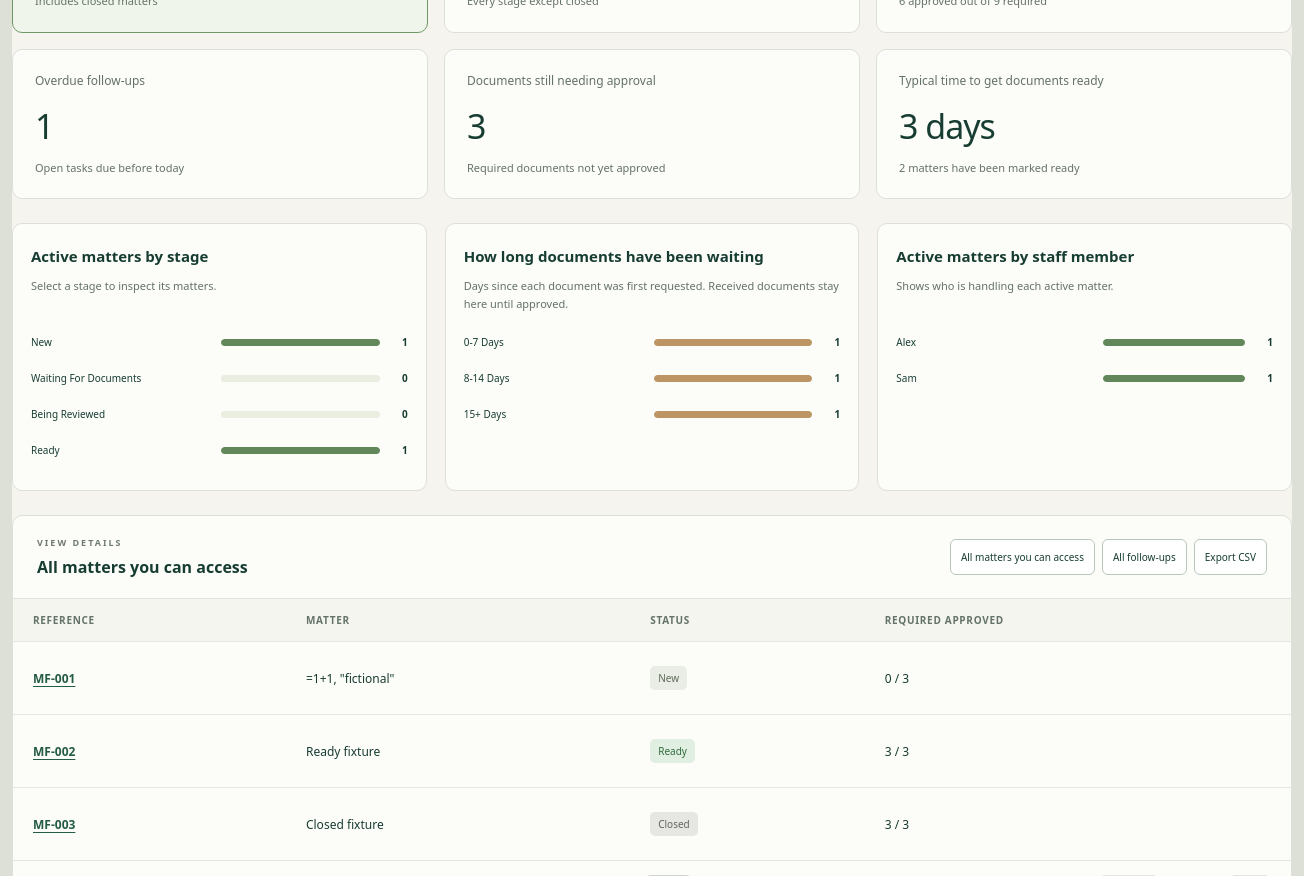
Test: stage, age and assignment charts filter records and open the correct matter
Later steps or results of the test are not shown.
(page scrolled)
Click the button "Ready 1": {"x": 219, "y": 450} [31,432,408,468]
(page scrolled)
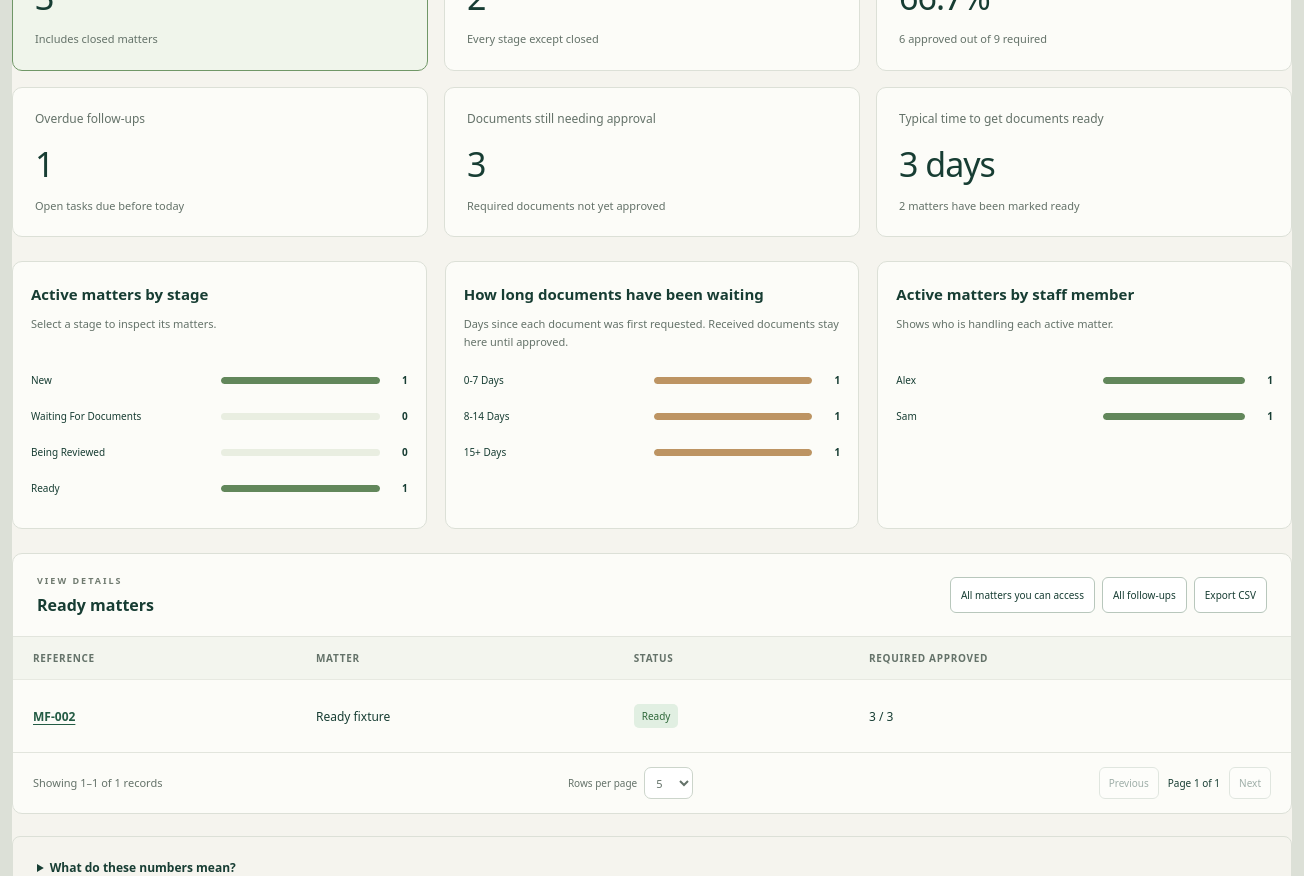
Expected: the row "MF-002 Ready fixture Ready 3 / 3" is shown, [13,680,1291,752]
Click the button "0-7 days 1": {"x": 652, "y": 380} [464,362,840,398]
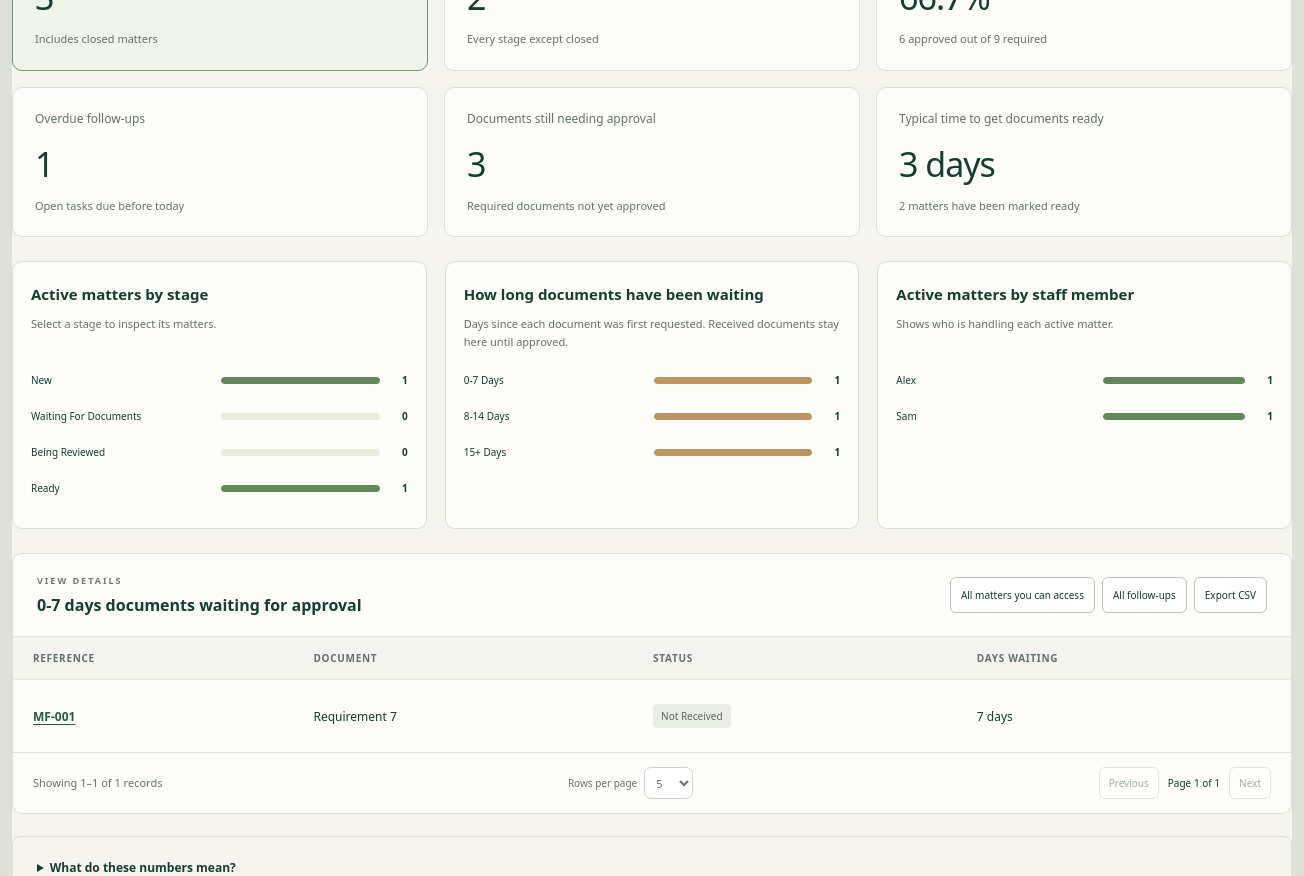
Result: the row "MF-001 Requirement 7 Not received 7 days" is shown at [13,680,1291,752]
Click the button "8-14 days 1": {"x": 652, "y": 416} [464,398,840,434]
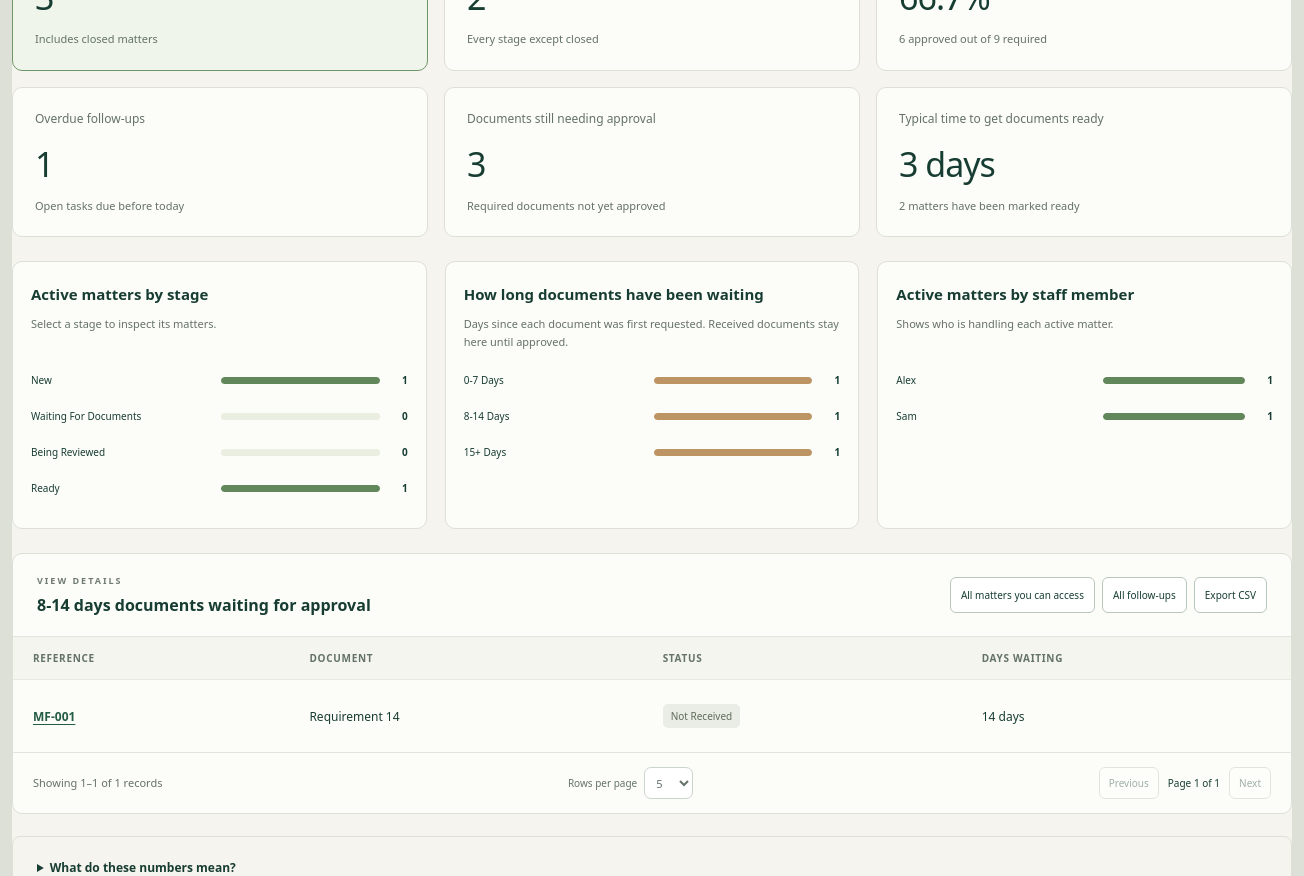
Result: the row "MF-001 Requirement 14 Not received 14 days" is shown at [13,680,1291,752]
Click the button "15+ days 1": {"x": 652, "y": 452} [464,434,840,470]
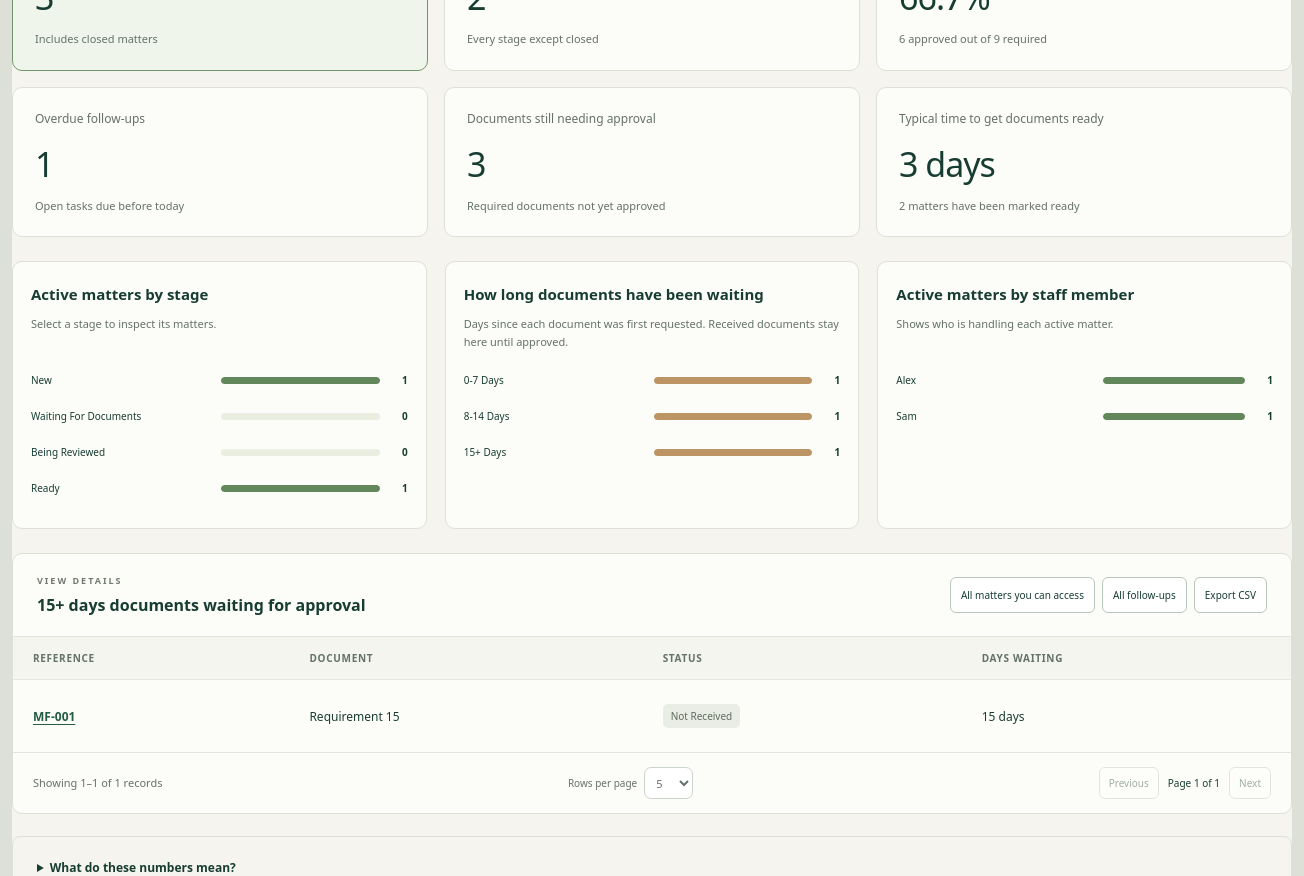
Expected: the button "MF-001" is shown, [33,698,75,734]
Result: the row "MF-001 Requirement 15 Not received 15 days" is shown at [13,680,1291,752]
